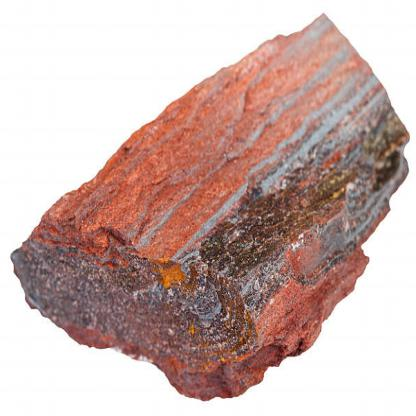Metamorphic_Quartize: (11, 7, 411, 388)
